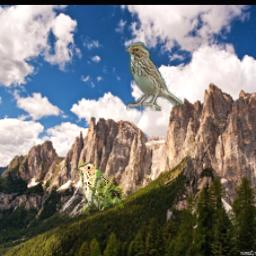Sparrow: (126, 42, 183, 111), (77, 161, 123, 215)
